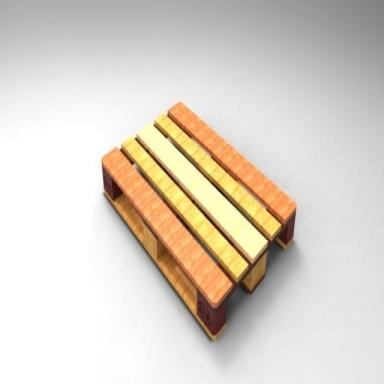pallet: (101, 101, 297, 341)
